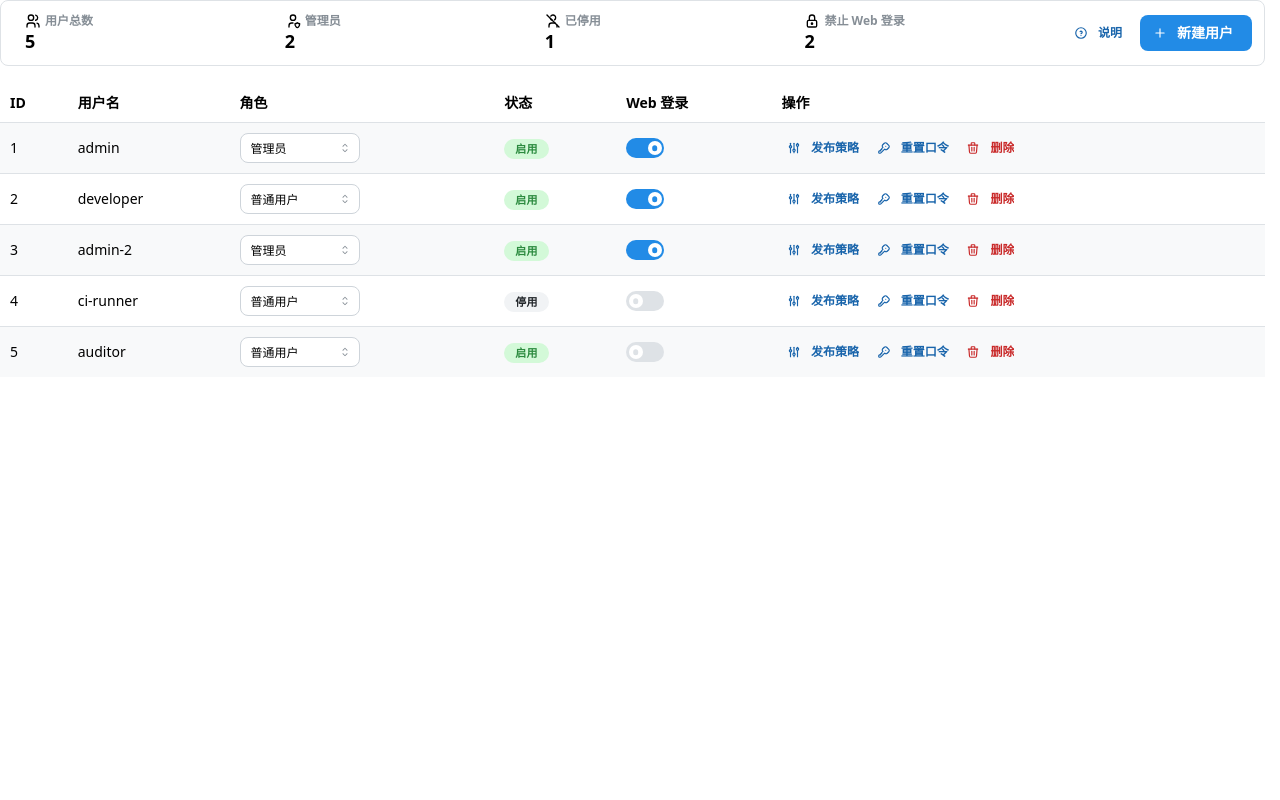
Test case: 账户与服务页开发态场景 › 备用节点拒绝新建用户时保留已输入表单并反馈失败
The image size is (1280, 800).
Expected: the text "admin" is shown, [78, 138, 120, 157]
Click the button "新建用户" at (1196, 33), box [1140, 15, 1252, 51]
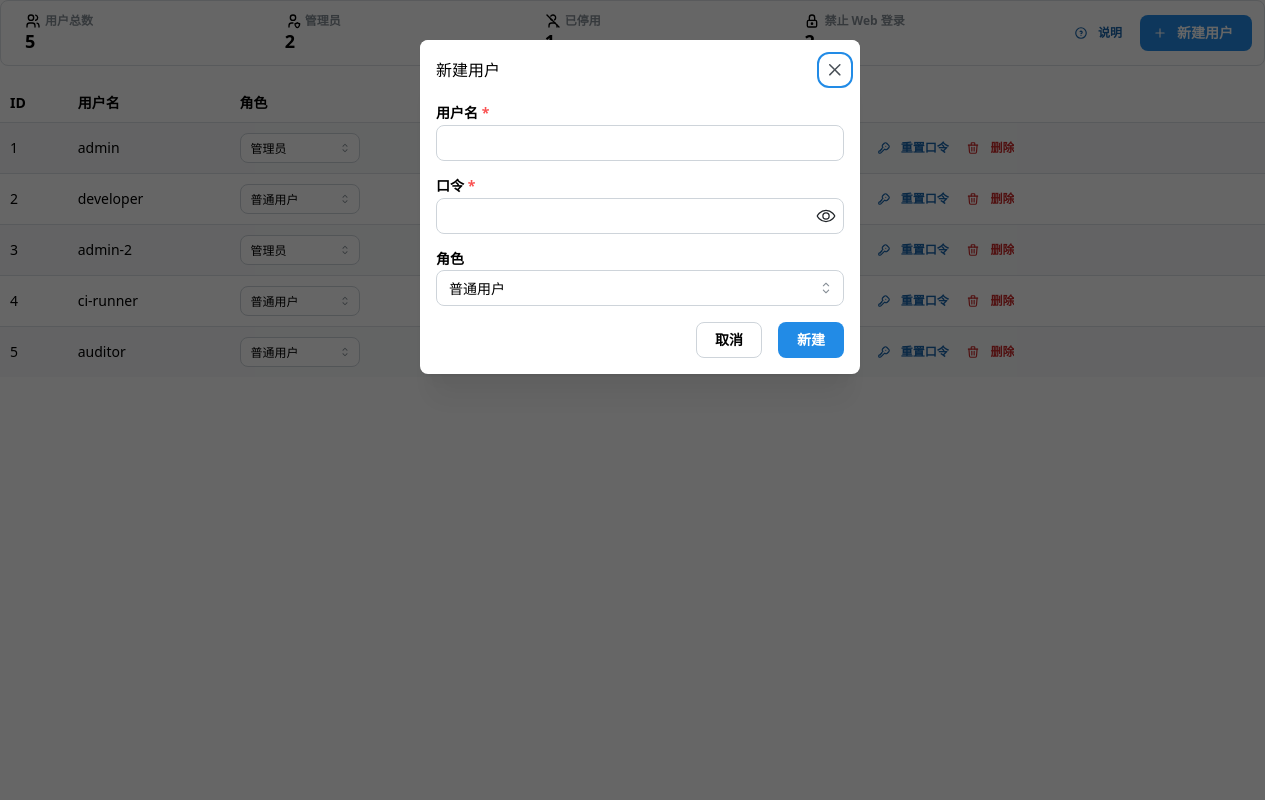
Type "standby-user" into the field labelled "用户名 *" at (640, 143), box [436, 125, 844, 161]
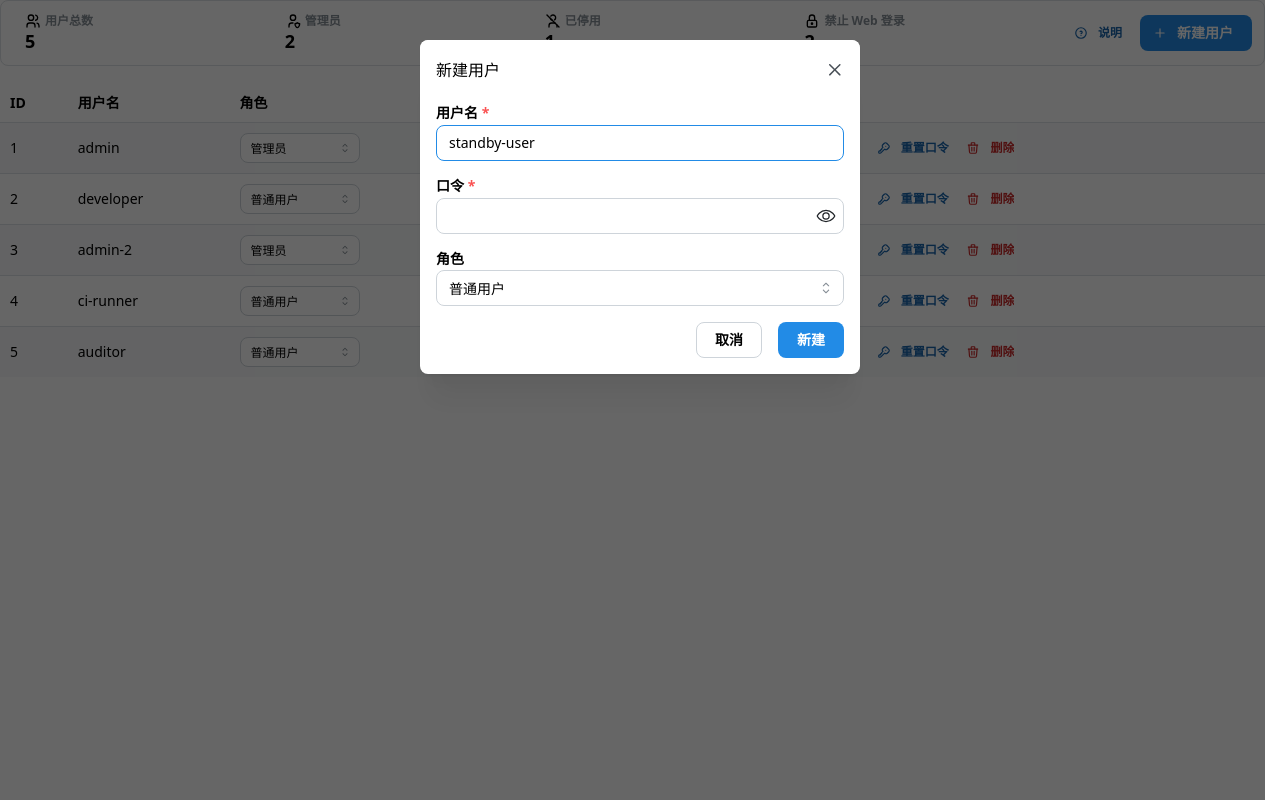
Type "password1" into the password field labelled "口令 *" at (640, 216), box [437, 199, 843, 233]
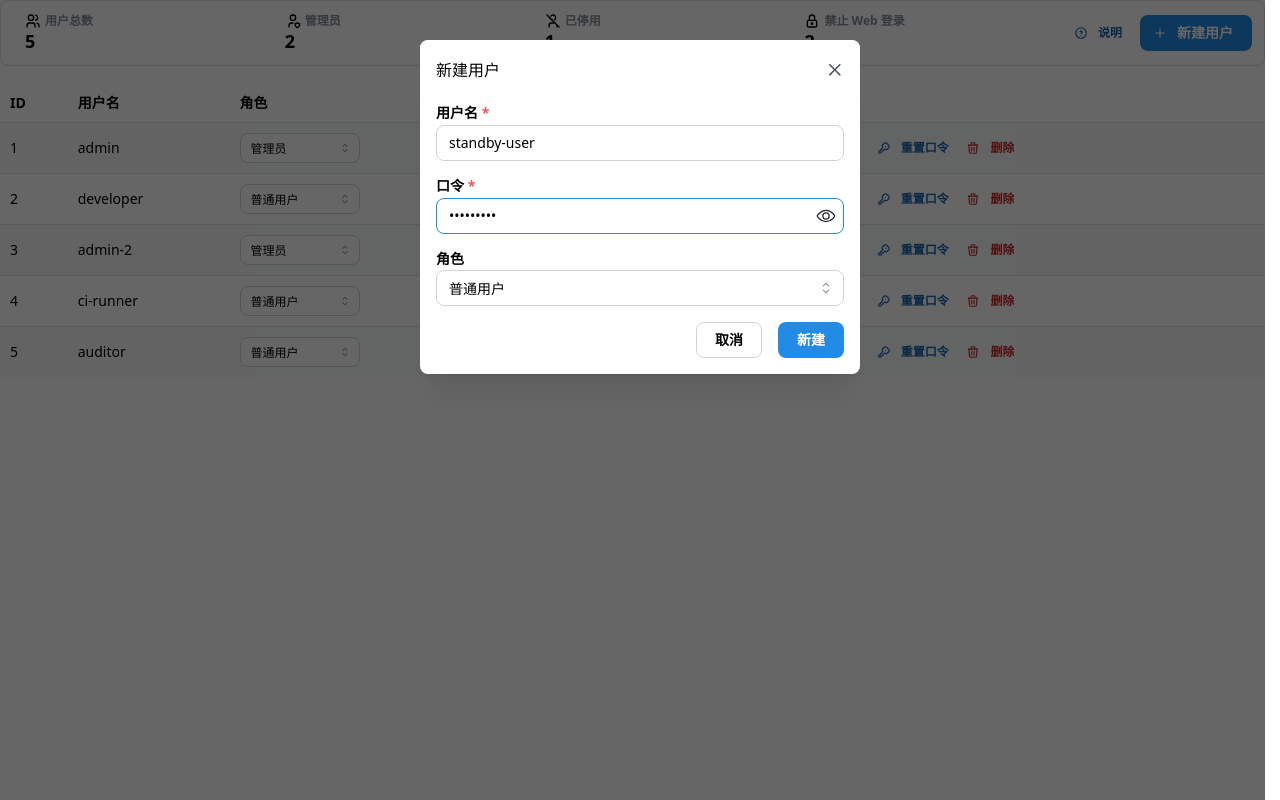
Click the button "新建" at (811, 340), box [778, 322, 844, 358]
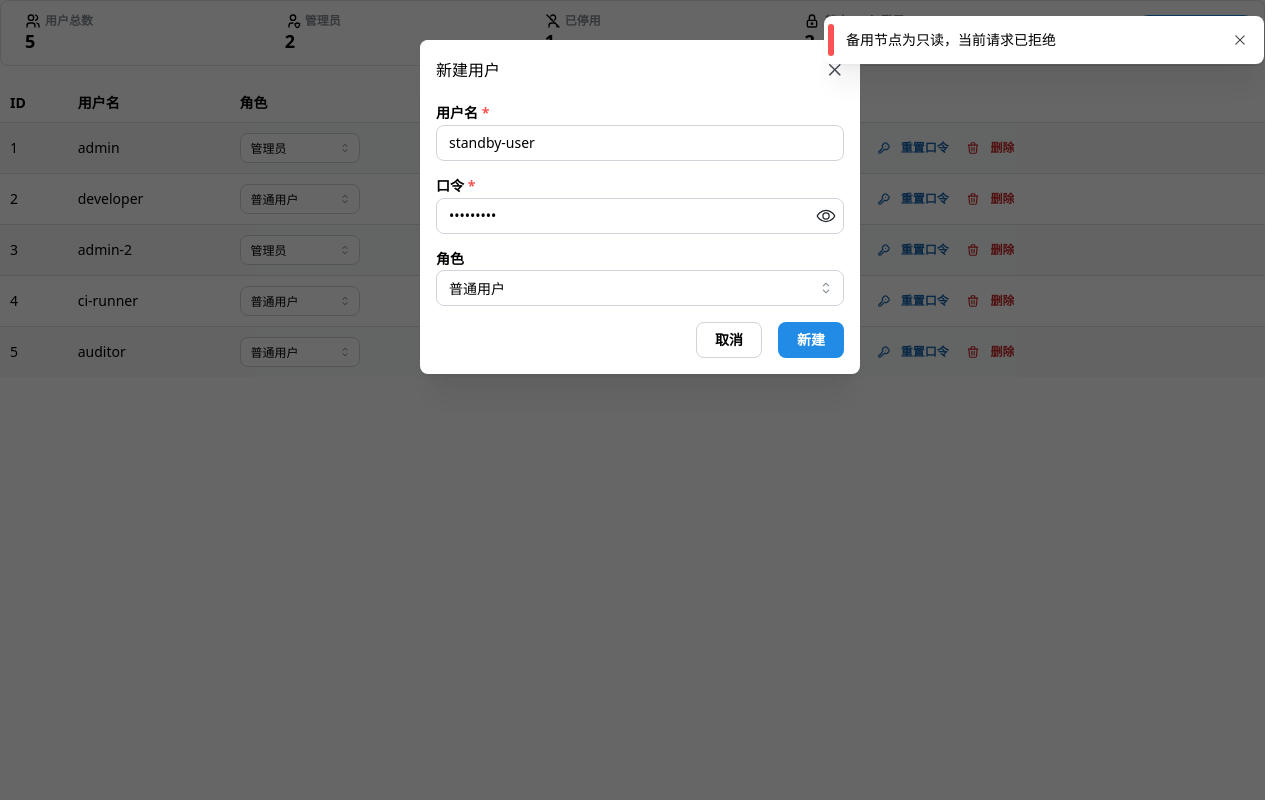
Result: the text "备用节点为只读，当前请求已拒绝" is shown at [846, 30, 1056, 49]
